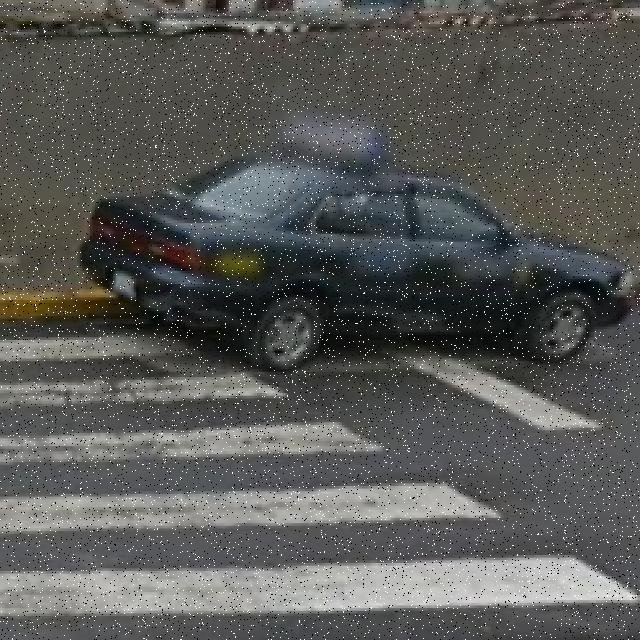cars: (110, 144, 640, 358)
